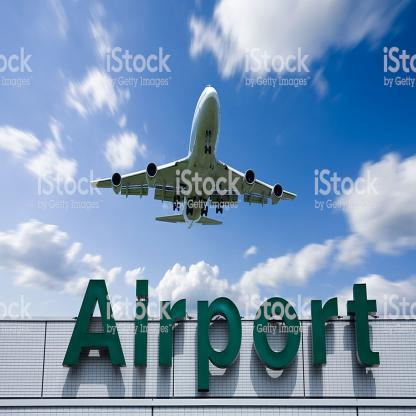CIV_Plane: (91, 78, 297, 228)
